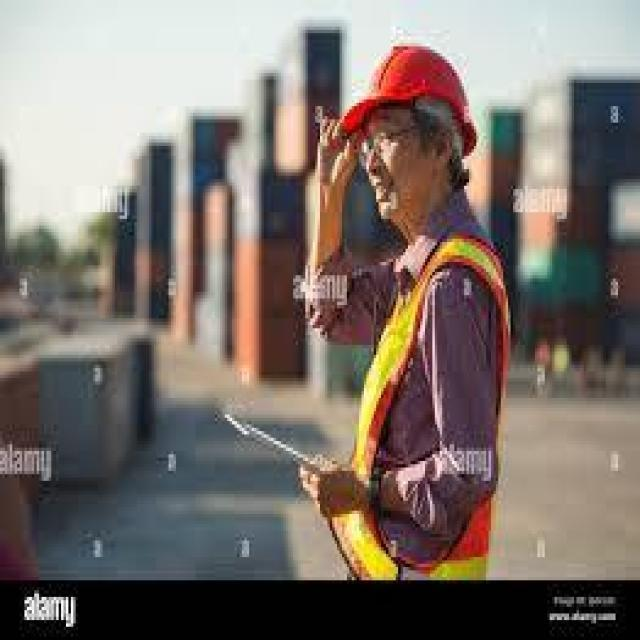safety_helmet: (335, 213, 512, 578)
